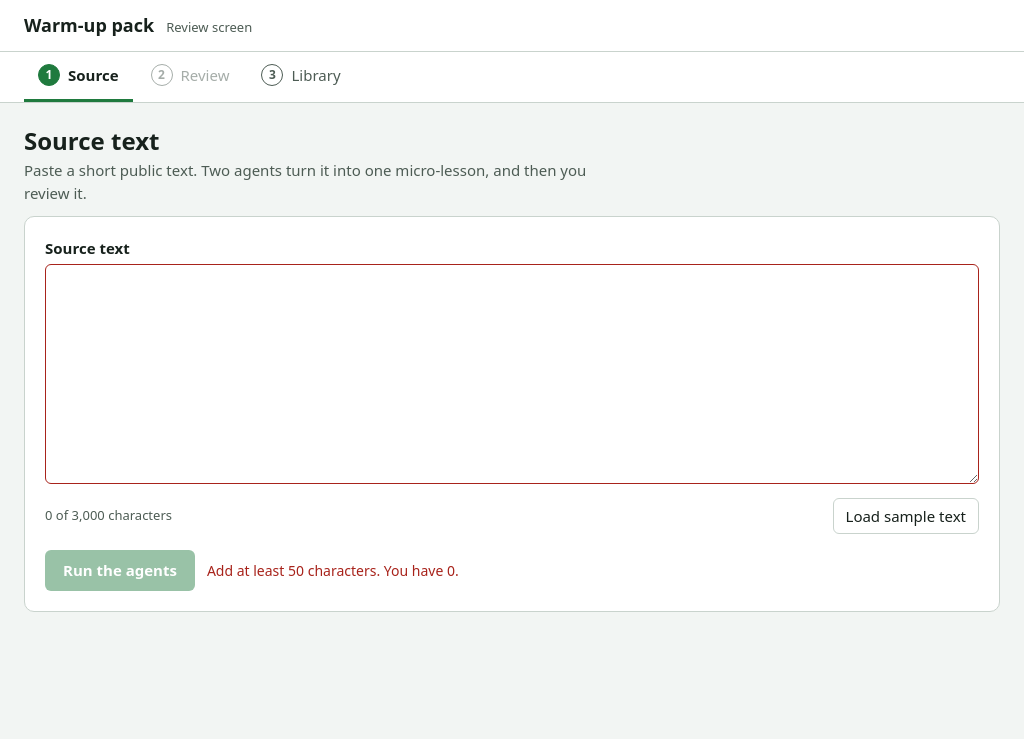
Scenario: Review screen app › re-runs the checks after an edit and reports the stale state
Click the button "Load sample text".
click(906, 516)  # box x1=832 y1=498 x2=979 y2=534
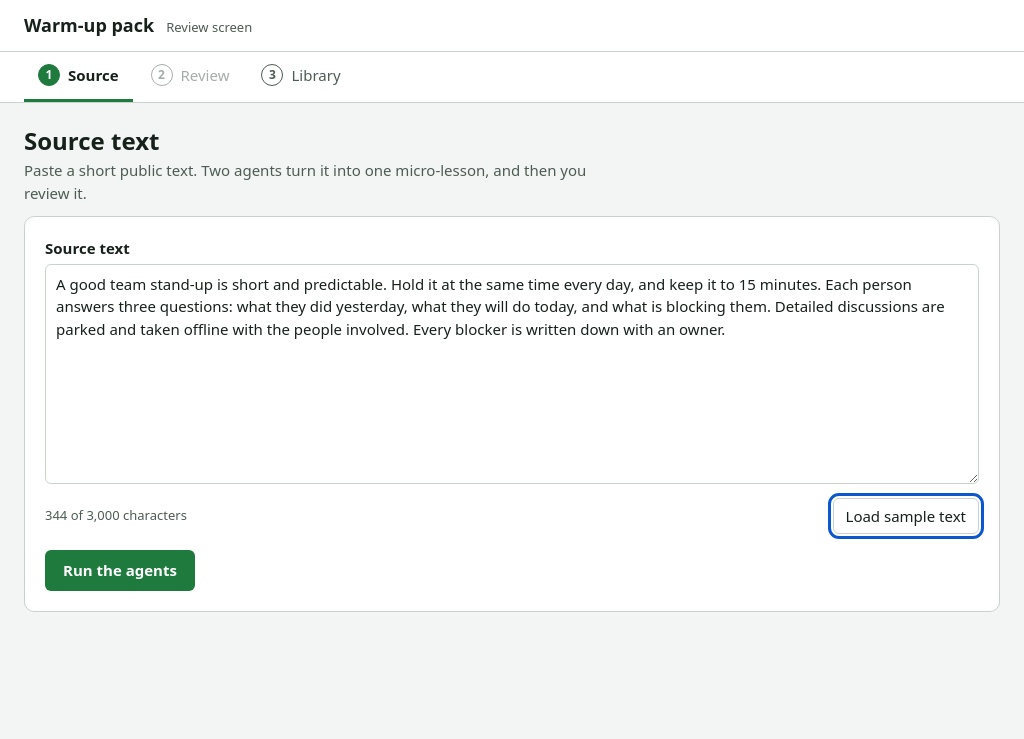
Click the button "Run the agents".
click(120, 571)  # box x1=45 y1=550 x2=195 y2=591
(page scrolled)
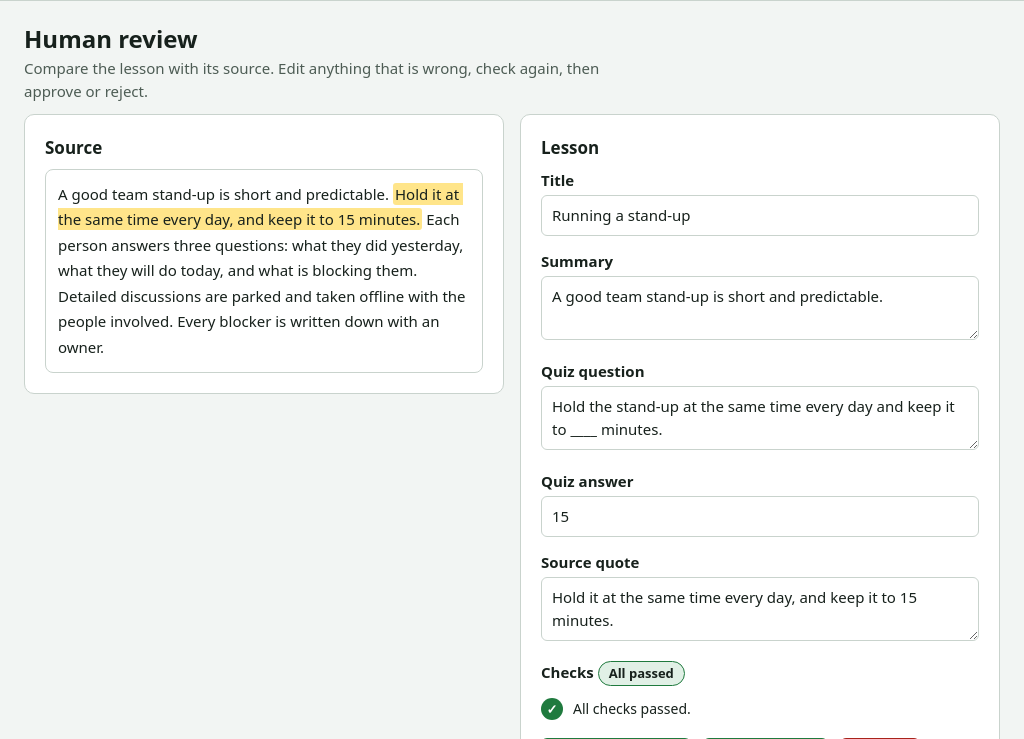
Result: the heading "Human review" is shown at x1=24 y1=22 x2=198 y2=54
Replace the text in the field labelled "Quiz answer" with "20" at (760, 517), box x1=541 y1=496 x2=979 y2=537
(page scrolled)
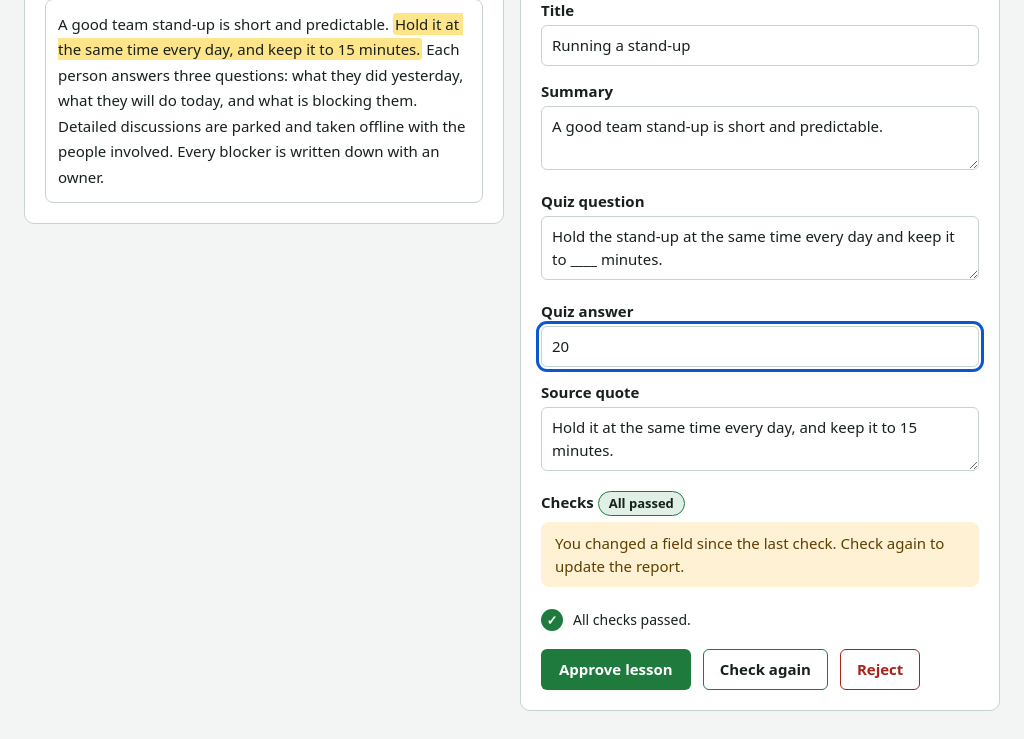
Result: the text "changed a field since the last check" is shown at x1=555 y1=534 x2=944 y2=576
Click the button "Check again".
click(765, 670)  # box x1=703 y1=650 x2=828 y2=690
(page scrolled)
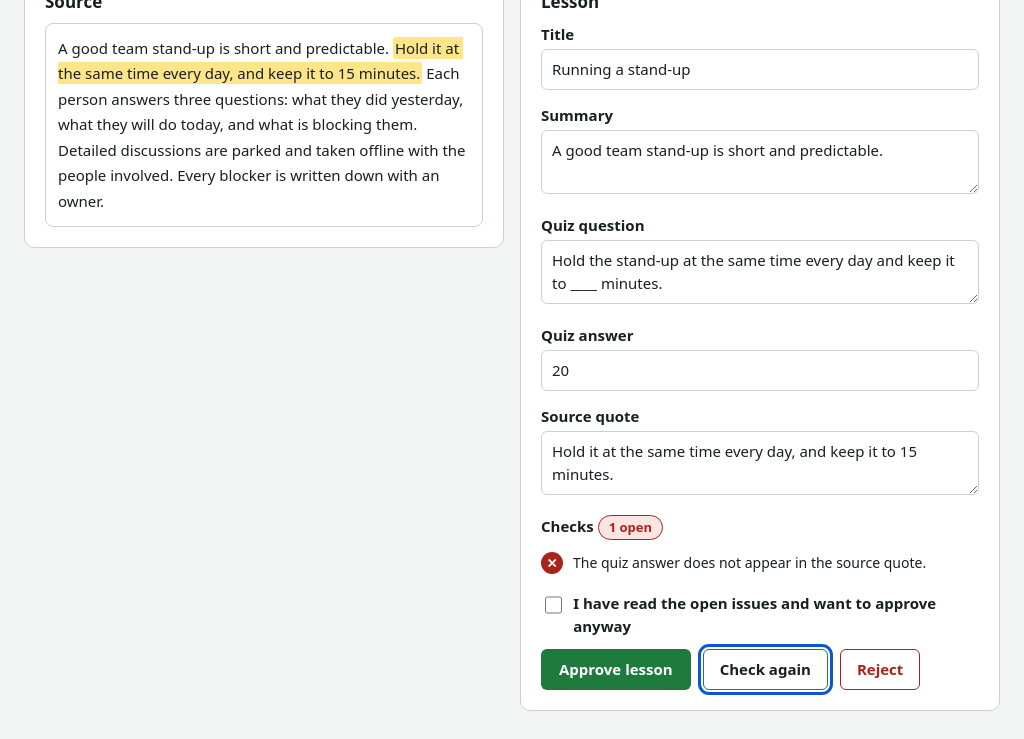
Result: the text "1 open" is shown at x1=598 y1=515 x2=663 y2=540
Result: the text "The quiz answer does not appear in the source quote." is shown at x1=573 y1=552 x2=926 y2=574
